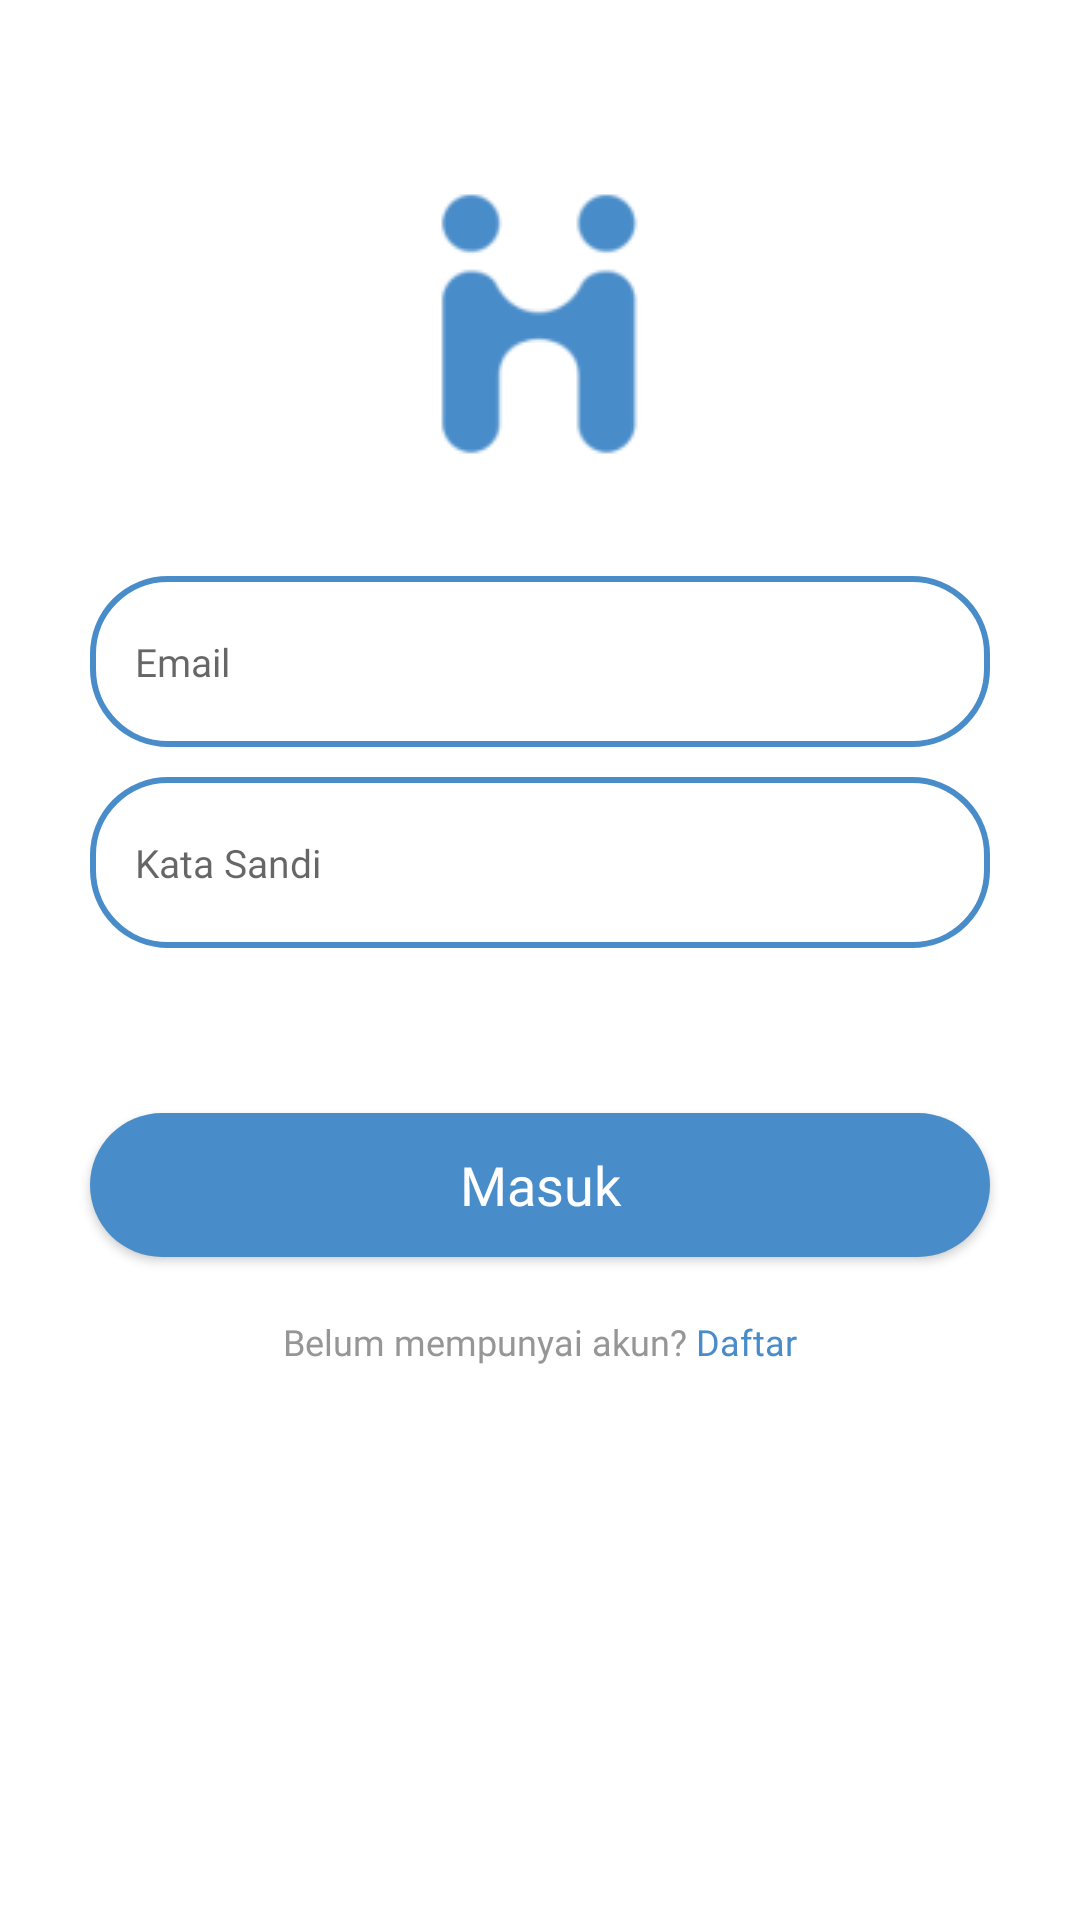

Point at icon controls on the screen. Image size 1080x1920, points as (x=x, y=y).
gambar: (x=539, y=324)
